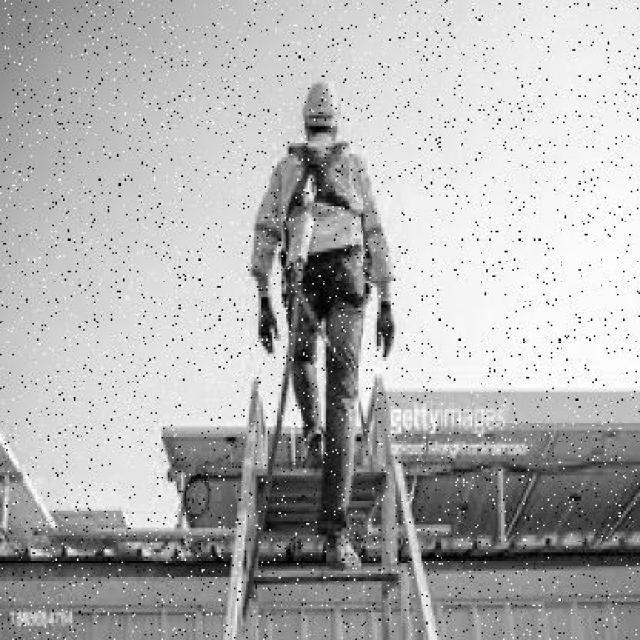Arnes_seguridad: (279, 129, 370, 323)
